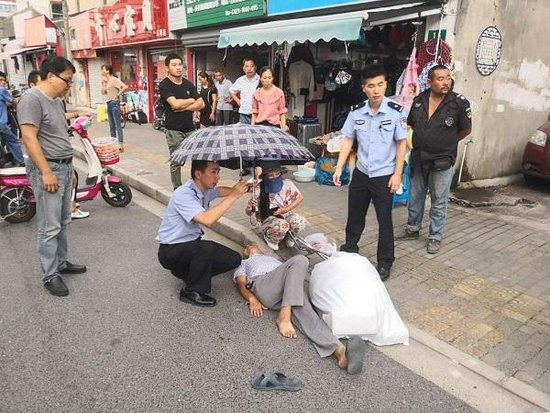fall: (225, 239, 366, 378)
